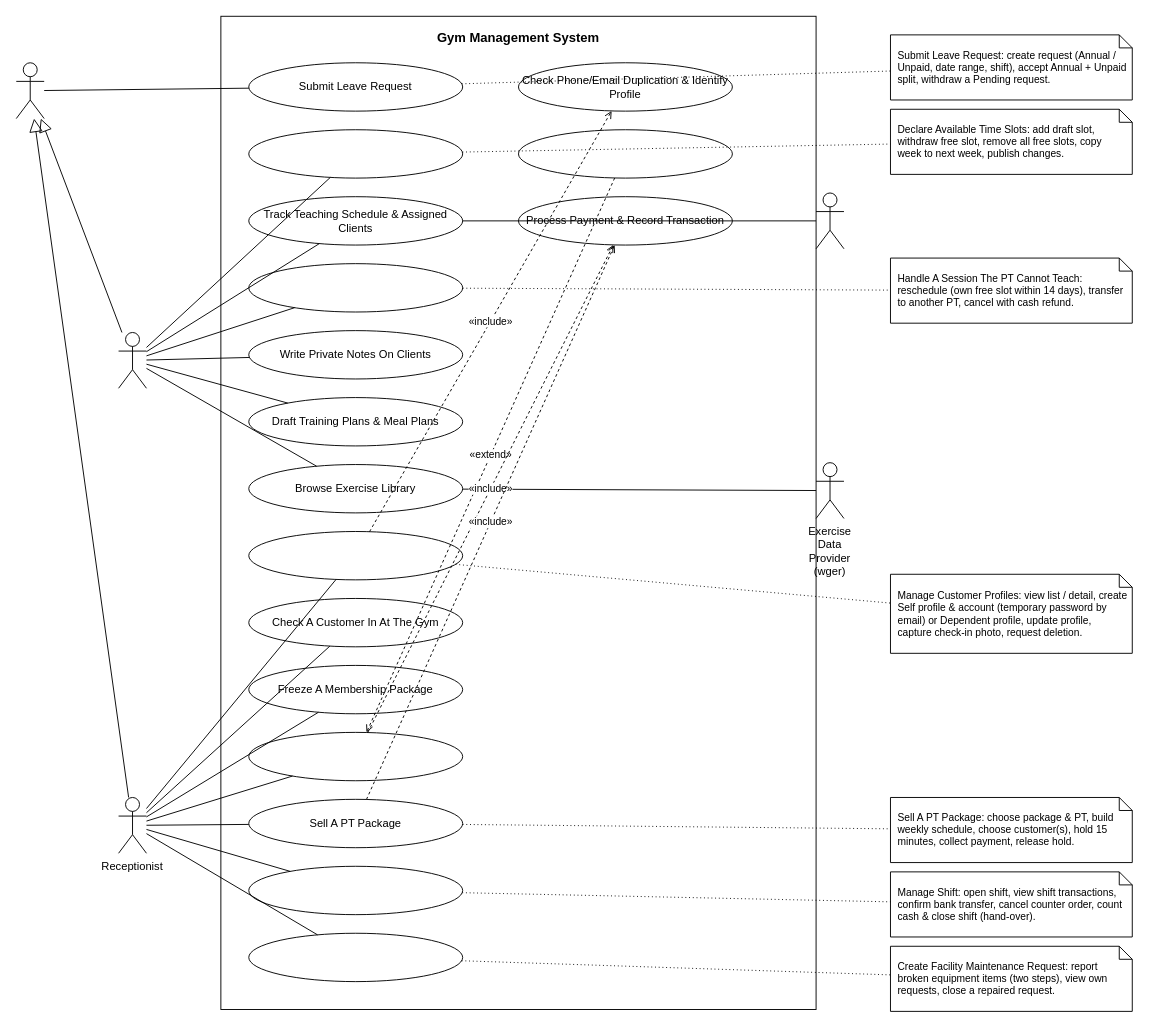
This 1149x1028 diagram has some shape labels left out. Each missing label, with the centre of its shape:
Apply A Voucher To An Order: [625,153]
Create Facility Maintenance Request: [355,957]
Create Order & Collect Payment At Counter: [355,756]
Declare Available Time Slots: [355,153]
Handle A Session The PT Cannot Teach: [355,287]
Manage Customer Profiles: [355,555]
Manage Shift: [355,890]
PT: [132,360]
Staff: [29,90]
Weather Service (Open-Meteo): [829,220]
